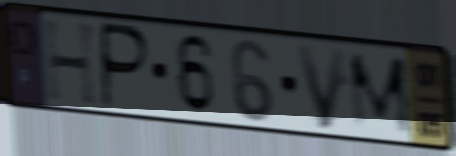6: (229, 35, 277, 126), (174, 31, 216, 117)
H: (40, 16, 101, 109)
M: (345, 51, 416, 137)
P: (100, 19, 153, 112)
V: (292, 41, 350, 134)
